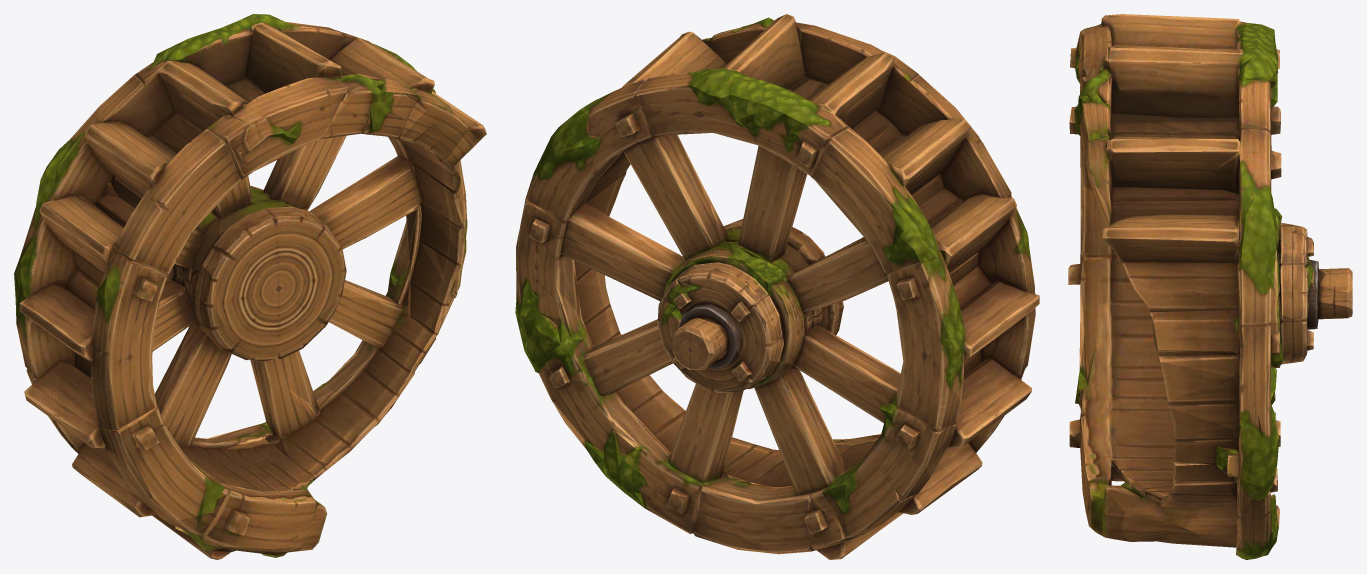
File: mill-wheel.hq.glb
3 views of the same model, side by side, from view 1: azimuth 30°, elevation 25°; view 2: azimuth 150°, elevation 25°; view 3: azimuth 270°, elevation 25° (orthographic). The views are drawn at different scales.
Visible parts, largest first — view 1: output_unwrapped; view 2: output_unwrapped; view 3: output_unwrapped.
Boxes of the visible parts, bbox=[...] form: output_unwrapped: bbox=[14, 14, 486, 559]; output_unwrapped: bbox=[515, 14, 1039, 559]; output_unwrapped: bbox=[1068, 14, 1352, 559].
Size of the model in its own units: 1.86 by 1.9 by 0.972.
Materials: 1 (1 with a texture image).
